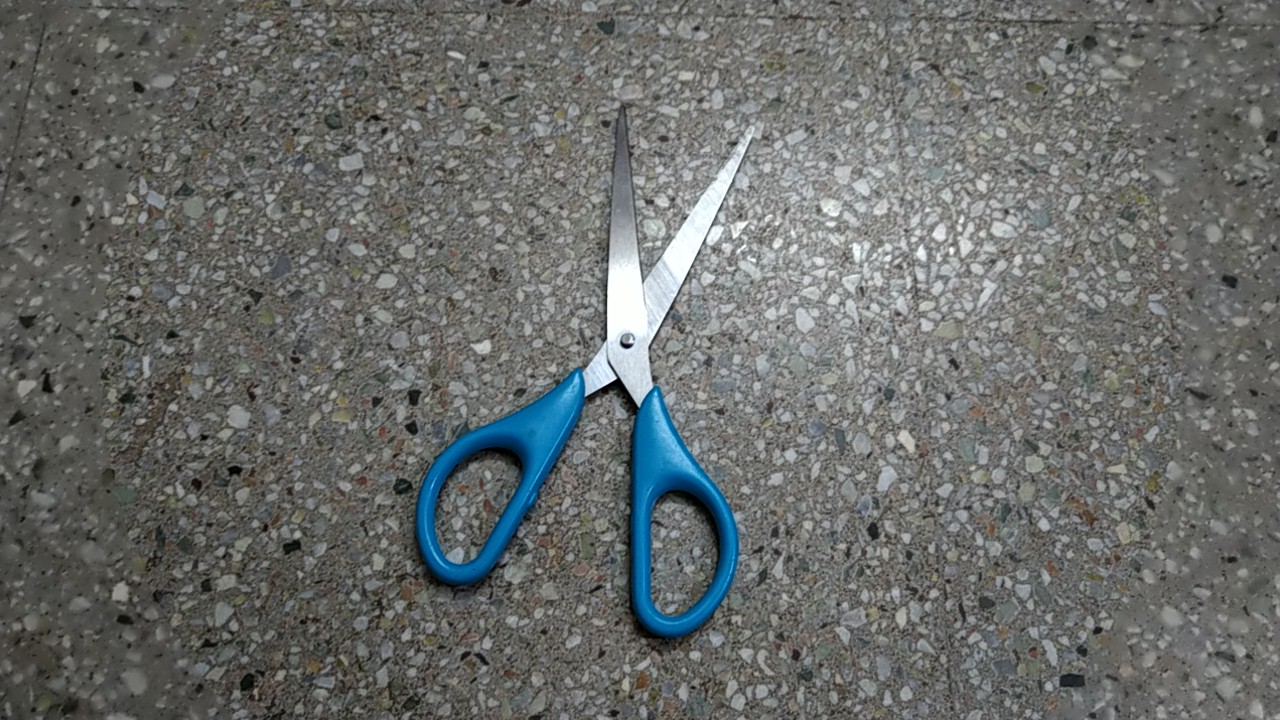scissor: (408, 92, 766, 651)
